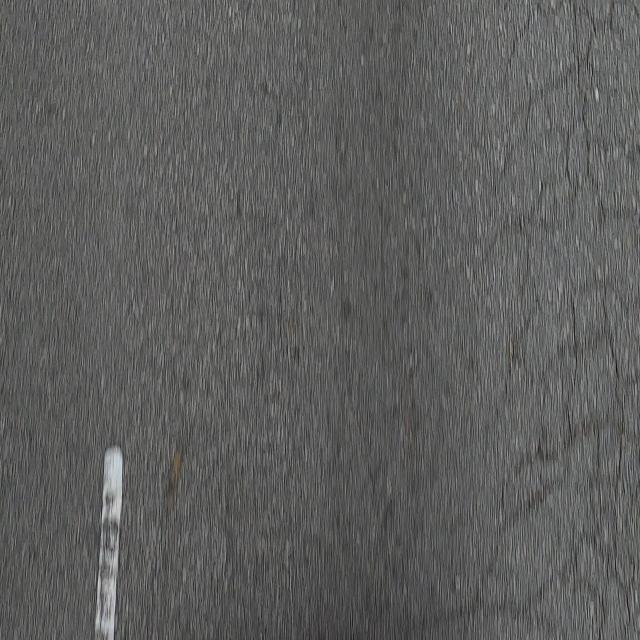Retak-Buaya: (483, 0, 640, 640)
